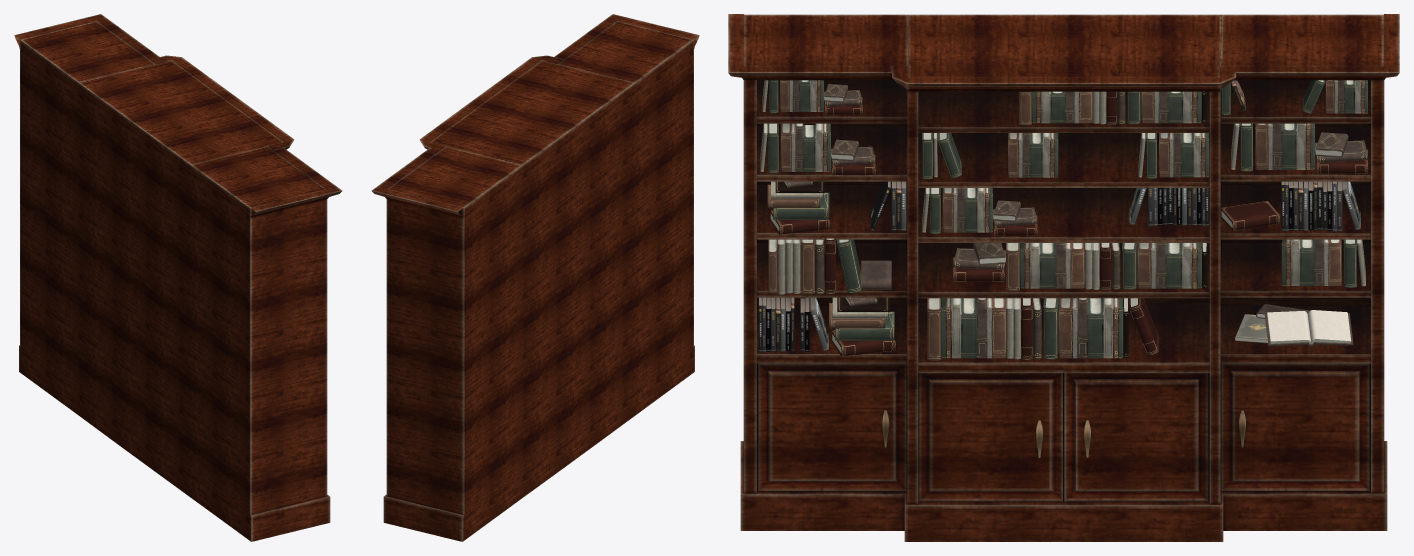
Rendered from BookshelfNew.fbx.
3 renders of one model, left to right at view 1: azimuth 30°, elevation 25°; view 2: azimuth 150°, elevation 25°; view 3: azimuth 270°, elevation 25°, orthographic. The views are drawn at different scales.
Visible parts, largest first — view 1: shkaff_obj_1; view 2: shkaff_obj_1; view 3: shkaff_obj_1, BOOKS_1.
Boxes of the visible parts, x1,y1,x2,y2 form: shkaff_obj_1: (14, 14, 342, 541); shkaff_obj_1: (371, 14, 699, 541); shkaff_obj_1: (728, 14, 1399, 541); BOOKS_1: (758, 80, 1368, 360).
Bounding box in the file's own units: 124 × 382 × 501.
12 materials, 12 textured.
